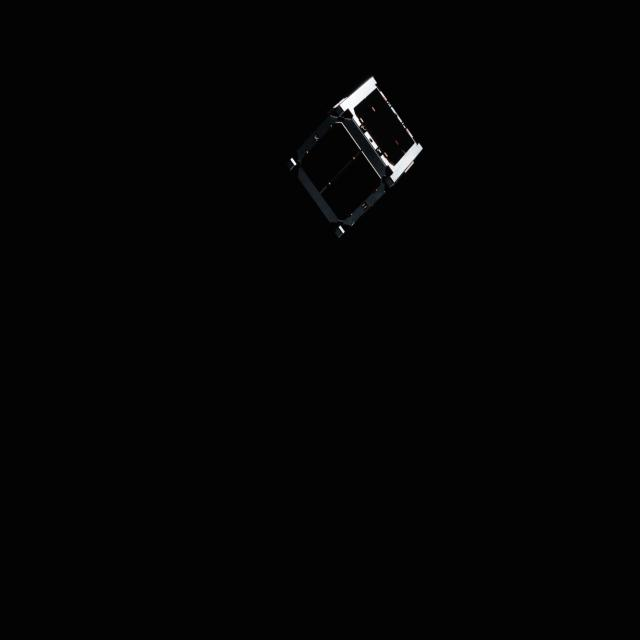medium_debris: (278, 77, 427, 250)
